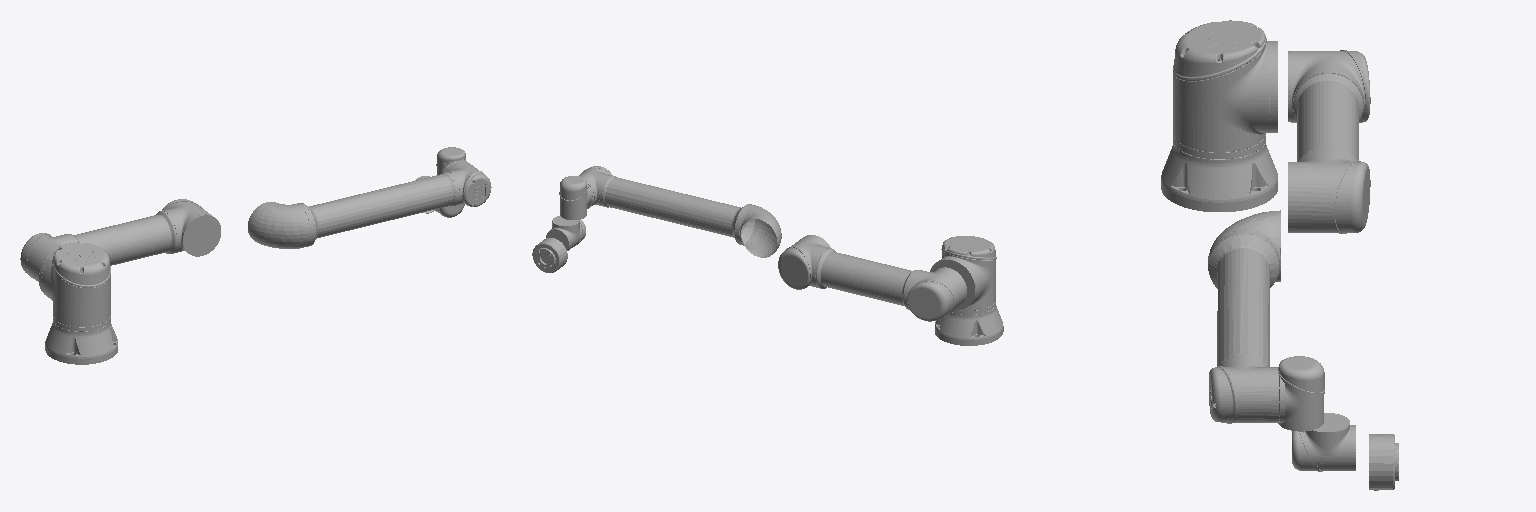
robot.urdf — ur10e_robot:
<?xml version="1.0" encoding="utf-8"?>
<robot name="ur10e_robot">
  <link name="base_link"/>
  <link name="base_link_inertia">
    <visual>
      <origin xyz="0.0 0.0 0.0" rpy="0.0 0.0 3.141592653589793"/>
      <geometry>
        <mesh filename="package://ur_description/meshes/ur10e/visual/base.dae.obj"/>
      </geometry>
      <material name="LightGrey">
        <color rgba="0.7 0.7 0.7 1.0"/>
      </material>
    </visual>
    <collision>
      <origin xyz="0.0 0.0 0.0" rpy="0.0 0.0 3.141592653589793"/>
      <geometry>
        <mesh filename="package://ur_description/meshes/ur10e/collision/base.stl"/>
      </geometry>
    </collision>
    <inertial>
      <origin xyz="0.0 0.0 0.0" rpy="0.0 0.0 0.0"/>
      <mass value="4.0"/>
      <inertia ixx="0.0061063308908" ixy="0.0" ixz="0.0" iyy="0.0061063308908" iyz="0.0" izz="0.01125"/>
    </inertial>
  </link>
  <link name="shoulder_link">
    <visual>
      <origin xyz="0.0 0.0 0.0" rpy="0.0 0.0 3.141592653589793"/>
      <geometry>
        <mesh filename="package://ur_description/meshes/ur10e/visual/shoulder.dae.obj"/>
      </geometry>
      <material name="LightGrey">
        <color rgba="0.7 0.7 0.7 1.0"/>
      </material>
    </visual>
    <collision>
      <origin xyz="0.0 0.0 0.0" rpy="0.0 0.0 3.141592653589793"/>
      <geometry>
        <mesh filename="package://ur_description/meshes/ur10e/collision/shoulder.stl"/>
      </geometry>
    </collision>
    <inertial>
      <origin xyz="0.0 0.0 0.0" rpy="0.0 0.0 0.0"/>
      <mass value="7.778"/>
      <inertia ixx="0.03147431257693659" ixy="0.0" ixz="0.0" iyy="0.03147431257693659" iyz="0.0" izz="0.021875624999999996"/>
    </inertial>
  </link>
  <link name="upper_arm_link">
    <visual>
      <origin xyz="0.0 0.0 0.1762" rpy="1.5707963267948966 0.0 -1.5707963267948966"/>
      <geometry>
        <mesh filename="package://ur_description/meshes/ur10e/visual/upperarm.dae.obj"/>
      </geometry>
      <material name="LightGrey">
        <color rgba="0.7 0.7 0.7 1.0"/>
      </material>
    </visual>
    <collision>
      <origin xyz="0.0 0.0 0.1762" rpy="1.5707963267948966 0.0 -1.5707963267948966"/>
      <geometry>
        <mesh filename="package://ur_description/meshes/ur10e/collision/upperarm.stl"/>
      </geometry>
    </collision>
    <inertial>
      <origin xyz="-0.306 0.0 0.175" rpy="0.0 1.5707963267948966 0.0"/>
      <mass value="12.93"/>
      <inertia ixx="0.42175380379841093" ixy="0.0" ixz="0.0" iyy="0.42175380379841093" iyz="0.0" izz="0.03636562499999999"/>
    </inertial>
  </link>
  <link name="forearm_link">
    <visual>
      <origin xyz="0.0 0.0 0.0393" rpy="1.5707963267948966 0.0 -1.5707963267948966"/>
      <geometry>
        <mesh filename="package://ur_description/meshes/ur10e/visual/forearm.dae.obj"/>
      </geometry>
      <material name="LightGrey">
        <color rgba="0.7 0.7 0.7 1.0"/>
      </material>
    </visual>
    <collision>
      <origin xyz="0.0 0.0 0.0393" rpy="1.5707963267948966 0.0 -1.5707963267948966"/>
      <geometry>
        <mesh filename="package://ur_description/meshes/ur10e/collision/forearm.stl"/>
      </geometry>
    </collision>
    <inertial>
      <origin xyz="-0.285775 0.0 0.0393" rpy="0.0 1.5707963267948966 0.0"/>
      <mass value="3.87"/>
      <inertia ixx="0.11079302548902206" ixy="0.0" ixz="0.0" iyy="0.11079302548902206" iyz="0.0" izz="0.010884375"/>
    </inertial>
  </link>
  <link name="wrist_1_link">
    <visual>
      <origin xyz="0.0 0.0 -0.135" rpy="1.5707963267948966 0.0 0.0"/>
      <geometry>
        <mesh filename="package://ur_description/meshes/ur10e/visual/wrist1.dae.obj"/>
      </geometry>
      <material name="LightGrey">
        <color rgba="0.7 0.7 0.7 1.0"/>
      </material>
    </visual>
    <collision>
      <origin xyz="0.0 0.0 -0.135" rpy="1.5707963267948966 0.0 0.0"/>
      <geometry>
        <mesh filename="package://ur_description/meshes/ur10e/collision/wrist1.stl"/>
      </geometry>
    </collision>
    <inertial>
      <origin xyz="0.0 0.0 0.0" rpy="0.0 0.0 0.0"/>
      <mass value="1.96"/>
      <inertia ixx="0.005108247956699999" ixy="0.0" ixz="0.0" iyy="0.005108247956699999" iyz="0.0" izz="0.005512499999999999"/>
    </inertial>
  </link>
  <link name="wrist_2_link">
    <visual>
      <origin xyz="0.0 0.0 -0.12" rpy="0.0 0.0 0.0"/>
      <geometry>
        <mesh filename="package://ur_description/meshes/ur10e/visual/wrist2.dae.obj"/>
      </geometry>
      <material name="LightGrey">
        <color rgba="0.7 0.7 0.7 1.0"/>
      </material>
    </visual>
    <collision>
      <origin xyz="0.0 0.0 -0.12" rpy="0.0 0.0 0.0"/>
      <geometry>
        <mesh filename="package://ur_description/meshes/ur10e/collision/wrist2.stl"/>
      </geometry>
    </collision>
    <inertial>
      <origin xyz="0.0 0.0 0.0" rpy="0.0 0.0 0.0"/>
      <mass value="1.96"/>
      <inertia ixx="0.005108247956699999" ixy="0.0" ixz="0.0" iyy="0.005108247956699999" iyz="0.0" izz="0.005512499999999999"/>
    </inertial>
  </link>
  <link name="wrist_3_link">
    <visual>
      <origin xyz="0.0 0.0 -0.1168" rpy="1.5707963267948966 0.0 0.0"/>
      <geometry>
        <mesh filename="package://ur_description/meshes/ur10e/visual/wrist3.dae.obj"/>
      </geometry>
      <material name="LightGrey">
        <color rgba="0.7 0.7 0.7 1.0"/>
      </material>
    </visual>
    <collision>
      <origin xyz="0.0 0.0 -0.1168" rpy="1.5707963267948966 0.0 0.0"/>
      <geometry>
        <mesh filename="package://ur_description/meshes/ur10e/collision/wrist3.stl"/>
      </geometry>
    </collision>
    <inertial>
      <origin xyz="0.0 0.0 -0.025" rpy="0.0 0.0 0.0"/>
      <mass value="0.202"/>
      <inertia ixx="0.00014434577559500002" ixy="0.0" ixz="0.0" iyy="0.00014434577559500002" iyz="0.0" izz="0.00020452500000000002"/>
    </inertial>
  </link>
  <link name="base"/>
  <link name="flange"/>
  <link name="tool0"/>
  <joint name="base_link-base_link_inertia" type="fixed">
    <parent link="base_link"/>
    <child link="base_link_inertia"/>
    <axis xyz="1.0 0.0 0.0"/>
    <origin xyz="0.0 0.0 0.0" rpy="0.0 0.0 3.141592653589793"/>
  </joint>
  <joint name="shoulder_pan_joint" type="revolute">
    <parent link="base_link_inertia"/>
    <child link="shoulder_link"/>
    <axis xyz="0.0 0.0 1.0"/>
    <dynamics damping="0.0" friction="0.0"/>
    <limit lower="-6.283185307179586" upper="6.283185307179586" effort="330.0" velocity="2.0943951023931953"/>
    <origin xyz="0.0 0.0 0.1807" rpy="0.0 0.0 0.0"/>
  </joint>
  <joint name="shoulder_lift_joint" type="revolute">
    <parent link="shoulder_link"/>
    <child link="upper_arm_link"/>
    <axis xyz="0.0 0.0 1.0"/>
    <dynamics damping="0.0" friction="0.0"/>
    <limit lower="-6.283185307179586" upper="6.283185307179586" effort="330.0" velocity="2.0943951023931953"/>
    <origin xyz="0.0 0.0 0.0" rpy="1.570796327 0.0 0.0"/>
  </joint>
  <joint name="elbow_joint" type="revolute">
    <parent link="upper_arm_link"/>
    <child link="forearm_link"/>
    <axis xyz="0.0 0.0 1.0"/>
    <dynamics damping="0.0" friction="0.0"/>
    <limit lower="-3.141592653589793" upper="3.141592653589793" effort="150.0" velocity="3.141592653589793"/>
    <origin xyz="-0.6127 0.0 0.0" rpy="0.0 0.0 0.0"/>
  </joint>
  <joint name="wrist_1_joint" type="revolute">
    <parent link="forearm_link"/>
    <child link="wrist_1_link"/>
    <axis xyz="0.0 0.0 1.0"/>
    <dynamics damping="0.0" friction="0.0"/>
    <limit lower="-6.283185307179586" upper="6.283185307179586" effort="56.0" velocity="3.141592653589793"/>
    <origin xyz="-0.57155 0.0 0.17415" rpy="0.0 0.0 0.0"/>
  </joint>
  <joint name="wrist_2_joint" type="revolute">
    <parent link="wrist_1_link"/>
    <child link="wrist_2_link"/>
    <axis xyz="0.0 0.0 1.0"/>
    <dynamics damping="0.0" friction="0.0"/>
    <limit lower="-6.283185307179586" upper="6.283185307179586" effort="56.0" velocity="3.141592653589793"/>
    <origin xyz="0.0 -0.11985 -2.458164590756244e-11" rpy="1.570796327 0.0 0.0"/>
  </joint>
  <joint name="wrist_3_joint" type="revolute">
    <parent link="wrist_2_link"/>
    <child link="wrist_3_link"/>
    <axis xyz="0.0 0.0 1.0"/>
    <dynamics damping="0.0" friction="0.0"/>
    <limit lower="-6.283185307179586" upper="6.283185307179586" effort="56.0" velocity="3.141592653589793"/>
    <origin xyz="0.0 0.11655 -2.390480459346185e-11" rpy="-1.5707963270000003 1.2246467991473532e-16 -1.2246467991473532e-16"/>
  </joint>
  <joint name="base_link-base_fixed_joint" type="fixed">
    <parent link="base_link"/>
    <child link="base"/>
    <axis xyz="1.0 0.0 0.0"/>
    <origin xyz="0.0 0.0 0.0" rpy="0.0 0.0 3.141592653589793"/>
  </joint>
  <joint name="wrist_3-flange" type="fixed">
    <parent link="wrist_3_link"/>
    <child link="flange"/>
    <axis xyz="1.0 0.0 0.0"/>
    <origin xyz="0.0 0.0 0.0" rpy="-1.5707963267948966 -1.5707963267948966 0.0"/>
  </joint>
  <joint name="flange-tool0" type="fixed">
    <parent link="flange"/>
    <child link="tool0"/>
    <axis xyz="1.0 0.0 0.0"/>
    <origin xyz="0.0 0.0 0.0" rpy="1.5707963267948966 0.0 1.5707963267948966"/>
  </joint>
  <transmission name="wrist_3_trans">
    <type>transmission_interface/SimpleTransmission</type>
    <joint name="wrist_3_joint">
      <hardwareInterface>hardware_interface/PositionJointInterface</hardwareInterface>
    </joint>
    <actuator name="wrist_3_motor">
      <mechanicalReduction>1</mechanicalReduction>
    </actuator>
  </transmission>
</robot>

--- What the picture shows (computed from the rendered views, not written in the file) ---
Views: 3 orthographic renders of the robot side by side, from view 1: azimuth 30°, elevation 25°; view 2: azimuth 150°, elevation 25°; view 3: azimuth 270°, elevation 25°.
Model ur10e_robot with 11 links and 10 joints (6 revolute, 4 fixed), rooted at base_link, posed every joint at zero.
Links seen in each view (by area): view 1: forearm_link, upper_arm_link, shoulder_link, base_link_inertia; view 2: upper_arm_link, forearm_link, shoulder_link, base_link_inertia, wrist_1_link, wrist_3_link, wrist_2_link; view 3: upper_arm_link, forearm_link, shoulder_link, base_link_inertia, wrist_2_link, wrist_1_link, wrist_3_link.
Boxes of the visible links, x1,y1,x2,y2 form: forearm_link: (248, 160, 491, 248); upper_arm_link: (20, 199, 220, 281); shoulder_link: (39, 242, 110, 326); base_link_inertia: (45, 316, 117, 364); upper_arm_link: (778, 235, 966, 321); forearm_link: (579, 166, 781, 257); shoulder_link: (930, 236, 996, 309); base_link_inertia: (935, 302, 1003, 345); wrist_1_link: (559, 176, 591, 219); wrist_3_link: (532, 238, 567, 272); wrist_2_link: (546, 216, 585, 250); upper_arm_link: (1288, 50, 1370, 233); forearm_link: (1208, 210, 1284, 423); shoulder_link: (1173, 20, 1277, 151); base_link_inertia: (1161, 133, 1277, 211); wrist_2_link: (1292, 413, 1355, 471); wrist_1_link: (1278, 356, 1324, 431); wrist_3_link: (1369, 434, 1398, 490).
Bounding box of the posed robot: 1.33 × 0.3857 × 0.2746 m (x, y, z).
Meshes: 7 distinct files referenced, 7 mesh visuals loaded (7 OBJ).